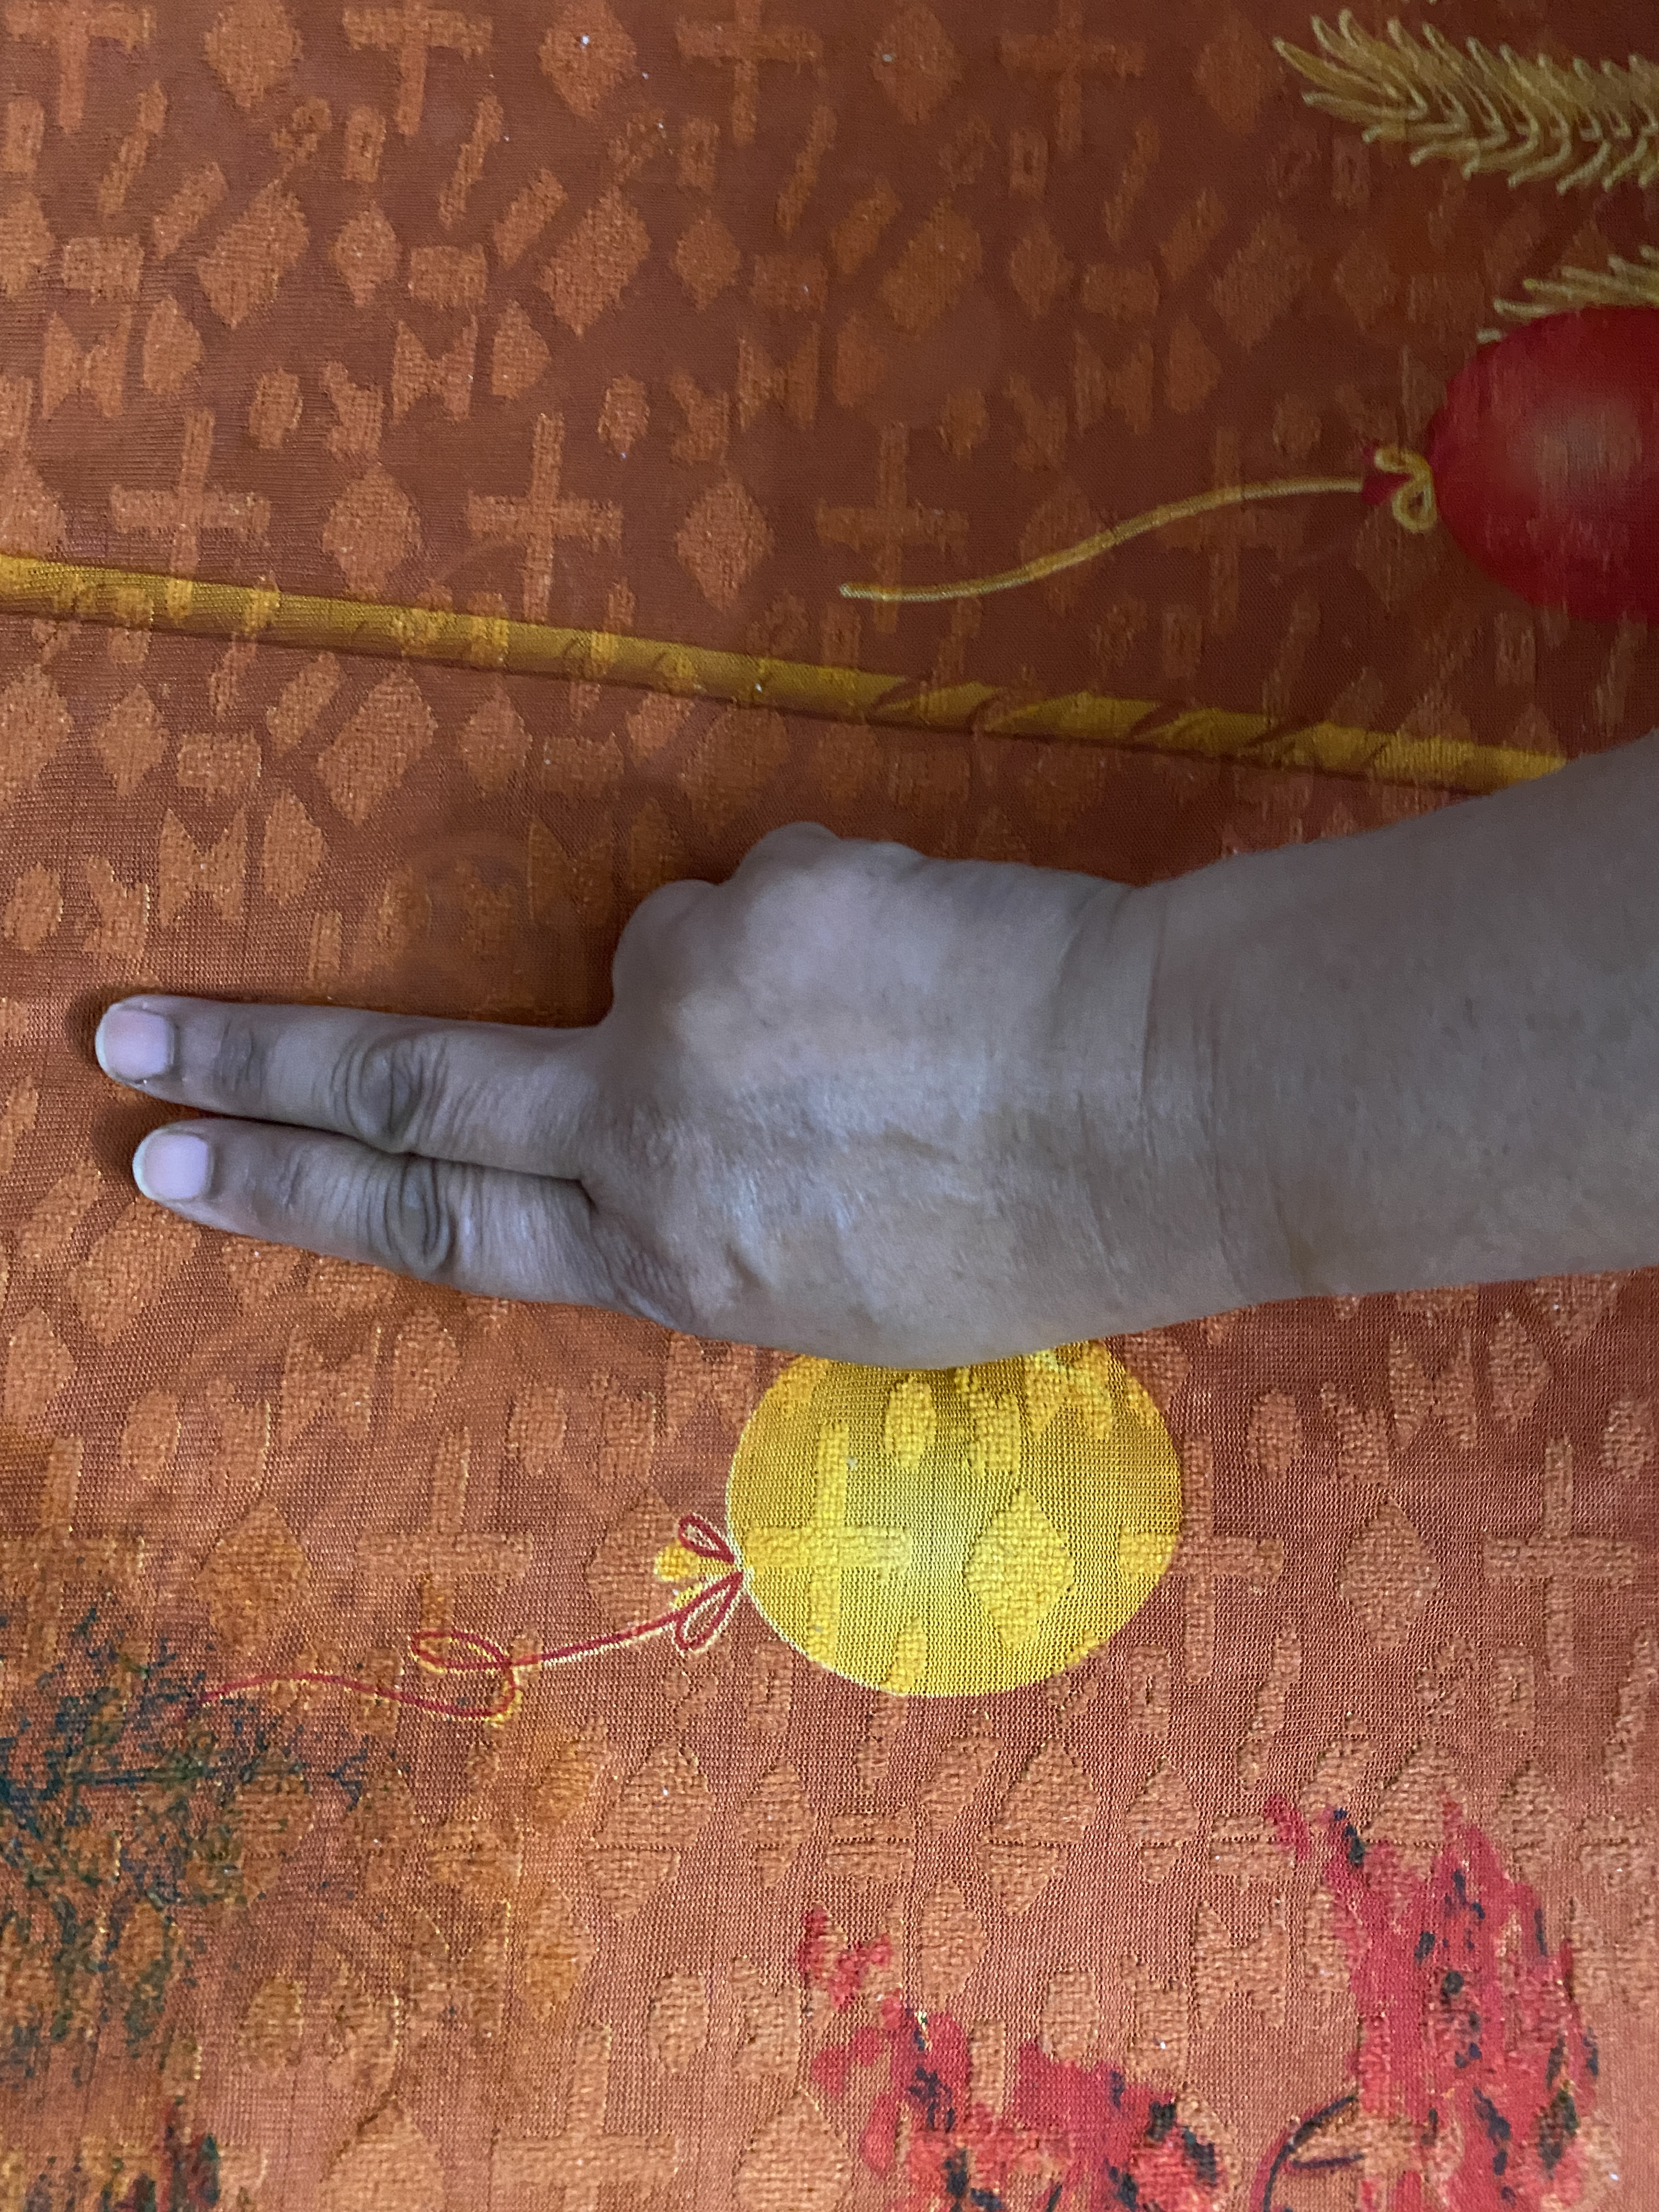right: (45, 592, 1659, 1597)
